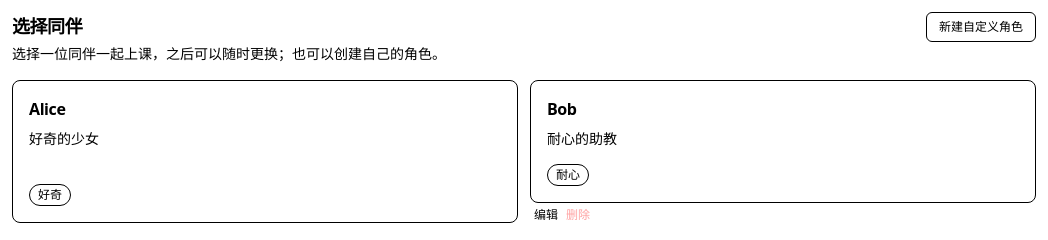
Test: CompanionSelector — custom companions › deletes a custom companion after confirmation
Expected: the text "Bob" is shown, [547,97,577,121]
Step 1. Click the button "删除" → (578, 215), box [566,207,590,223]
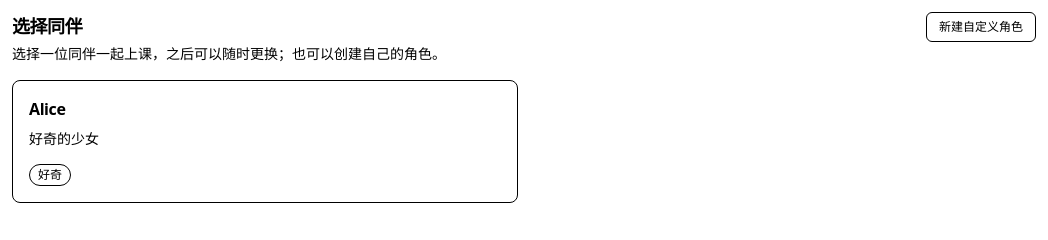
Result: the button "Bob" is gone
